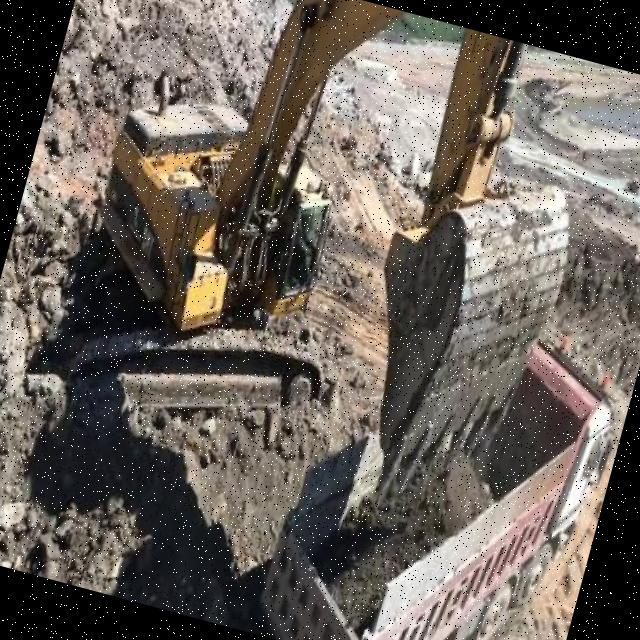Dump Truck: (248, 279, 639, 640)
Excavator: (40, 0, 621, 533)
